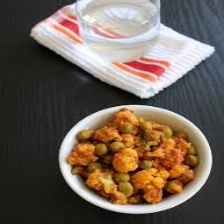sabzi: (66, 109, 198, 206)
